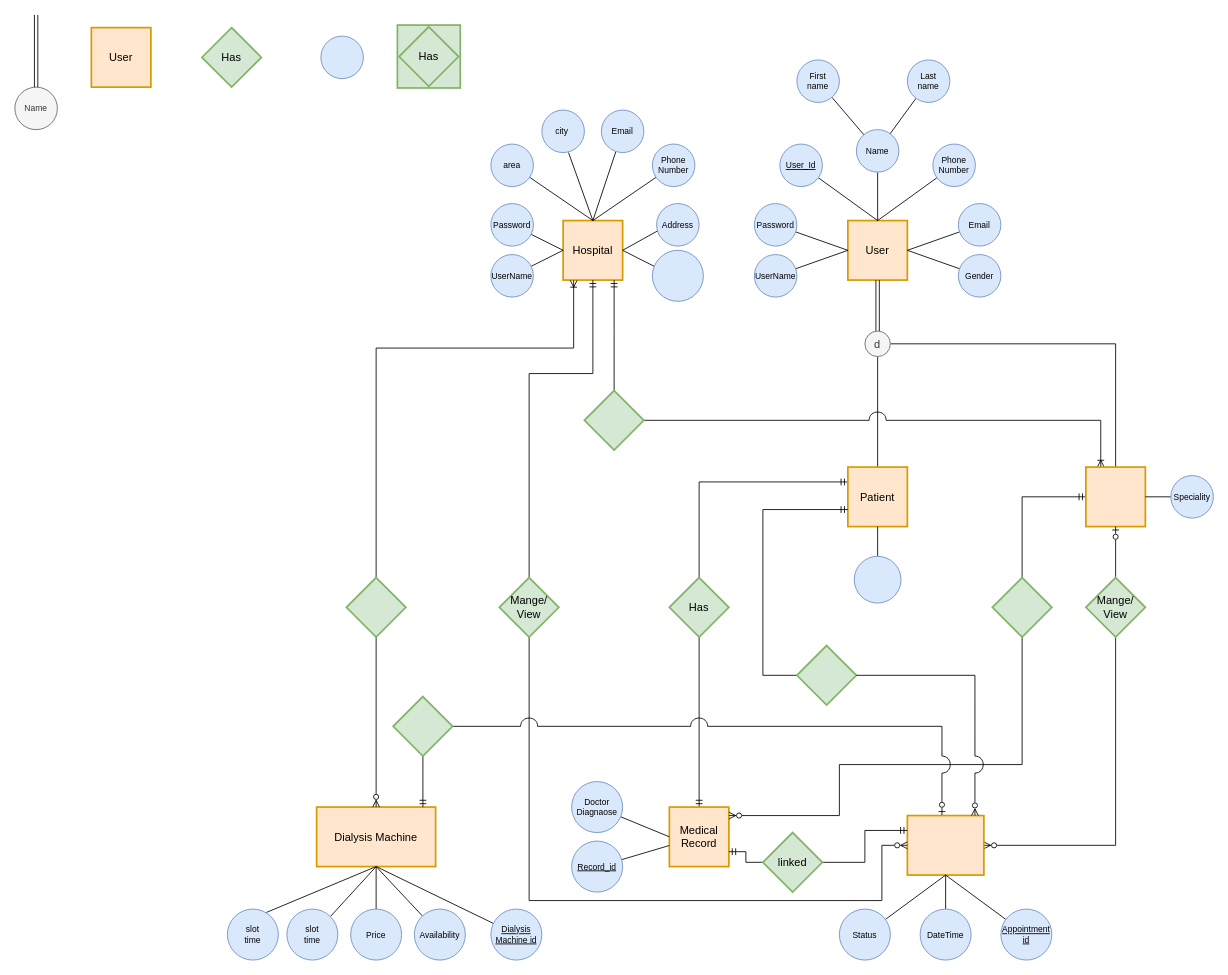
Some shapes in this 1228 by 975 pixel diagram are drawn without their labels. The centre of each missing label's shape, as x and y in pixels:
"Appoinment" belongs at pixel 945 845.
"Birthday" belongs at pixel 877 579.
"Book" belongs at pixel 826 675.
"CoachID" belongs at pixel 341 57.
"Doctor" belongs at pixel 1115 496.
"Edit" belongs at pixel 1021 607.
"Hospital_Id" belongs at pixel 677 275.
"Owns" belongs at pixel 375 607.
"using" belongs at pixel 422 725.
"Works" belongs at pixel 613 419.
